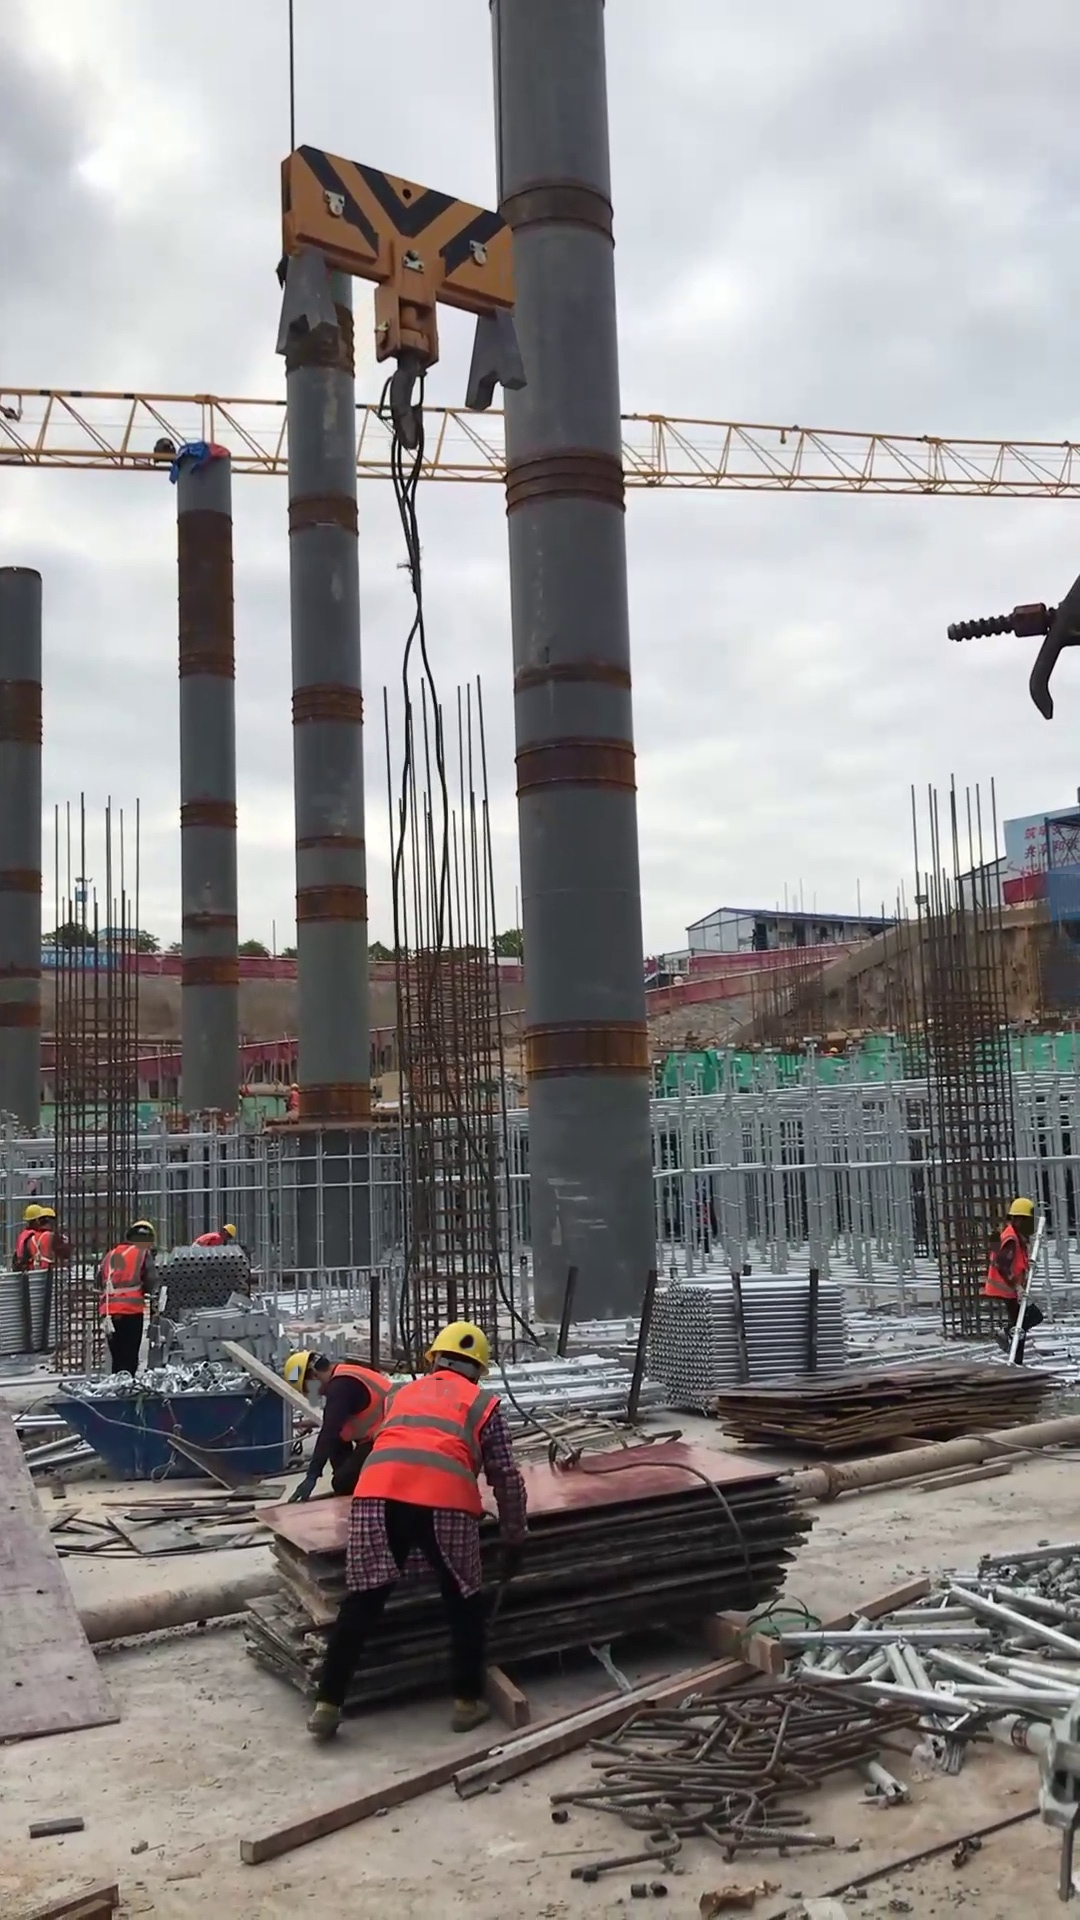board: (245, 1440, 808, 1698), (712, 1359, 1057, 1449)
helmet: (422, 1318, 492, 1381), (283, 1348, 324, 1397), (1006, 1195, 1036, 1218), (23, 1202, 41, 1222), (221, 1221, 238, 1240), (37, 1206, 55, 1220), (828, 1045, 840, 1054), (290, 1081, 300, 1089)
hook: (273, 140, 531, 452)
hopper: (43, 1383, 293, 1483)
person: (306, 1318, 531, 1739), (283, 1348, 396, 1505), (88, 1218, 164, 1376), (982, 1195, 1046, 1366), (24, 1205, 72, 1272), (13, 1202, 42, 1275), (193, 1219, 238, 1245), (285, 1078, 299, 1112)
scaffold: (646, 1270, 853, 1413), (490, 1352, 670, 1418), (151, 1242, 253, 1310), (5, 1265, 75, 1356)
slogan: (1020, 812, 1080, 864), (40, 945, 115, 972)
vest: (349, 1367, 501, 1516), (330, 1360, 398, 1449), (984, 1223, 1035, 1302), (98, 1244, 147, 1322), (25, 1229, 57, 1271), (14, 1230, 37, 1264), (193, 1230, 222, 1246), (288, 1090, 299, 1111)
